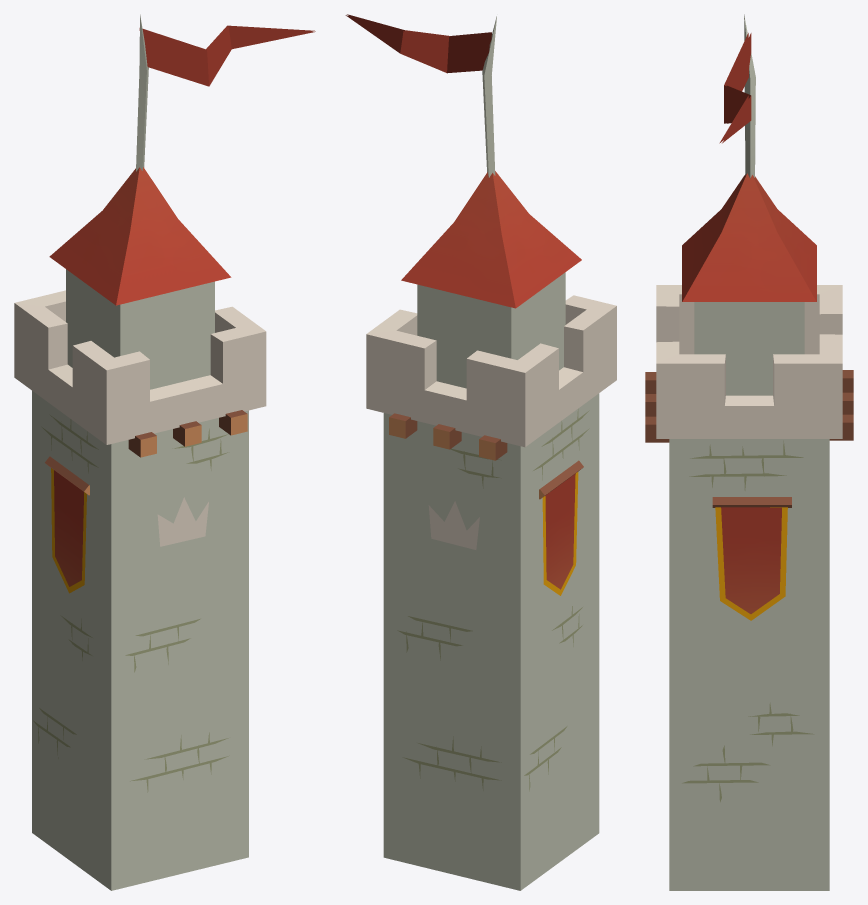
The model's file is tower_king.fbx.
The picture shows the model from 3 angles, left to right: view 1: azimuth 30°, elevation 25°; view 2: azimuth 150°, elevation 25°; view 3: azimuth 270°, elevation 25°; orthographic projection.
Parts seen in each view (by area): view 1: tower_king; view 2: tower_king; view 3: tower_king.
Boxes of the visible parts, x1,y1,x2,y2 form: tower_king: [14, 14, 315, 890]; tower_king: [345, 14, 616, 890]; tower_king: [645, 14, 853, 890].
Size of the model in its own units: 8.76 by 6.49 by 28.97.
